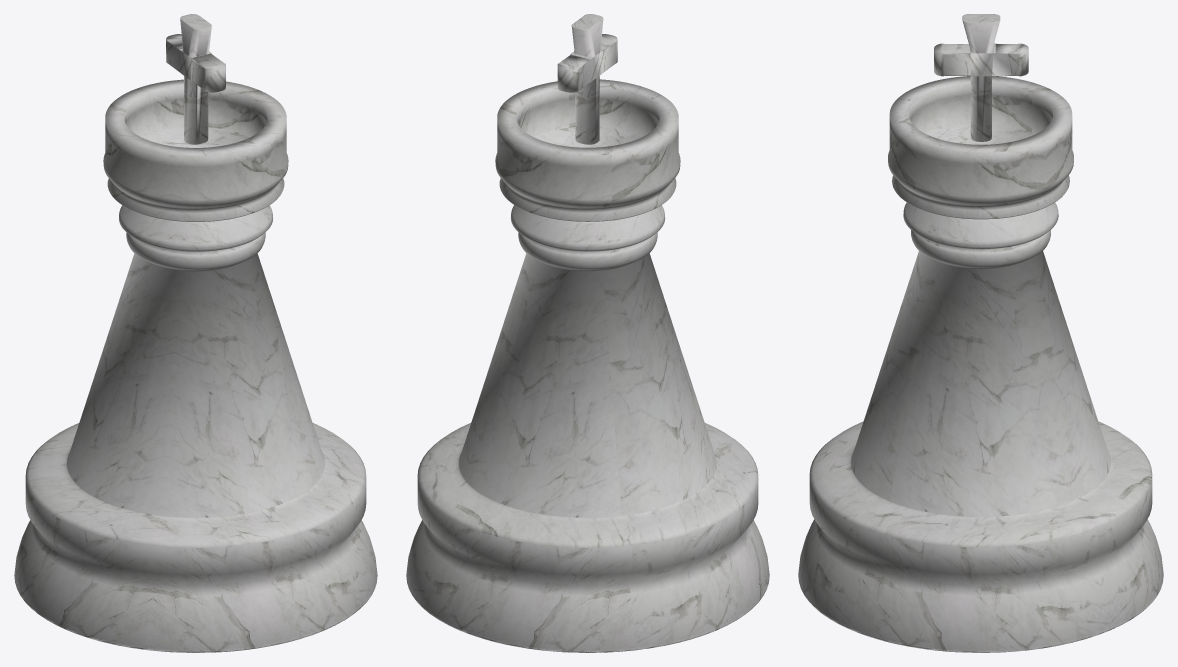
File: ALL.gltf
3 views of the same model, side by side, from view 1: azimuth 30°, elevation 25°; view 2: azimuth 150°, elevation 25°; view 3: azimuth 270°, elevation 25° (orthographic).
Visible parts, largest first — view 1: KingBlack; view 2: KingBlack; view 3: KingBlack.
Boxes of the visible parts, x1,y1,x2,y2 form: KingBlack: (14, 14, 377, 652); KingBlack: (406, 14, 769, 652); KingBlack: (798, 14, 1163, 652).
Bounding box in the file's own units: 0.0218 × 0.0367 × 0.0218.
Materials: 1 (1 with a texture image).
